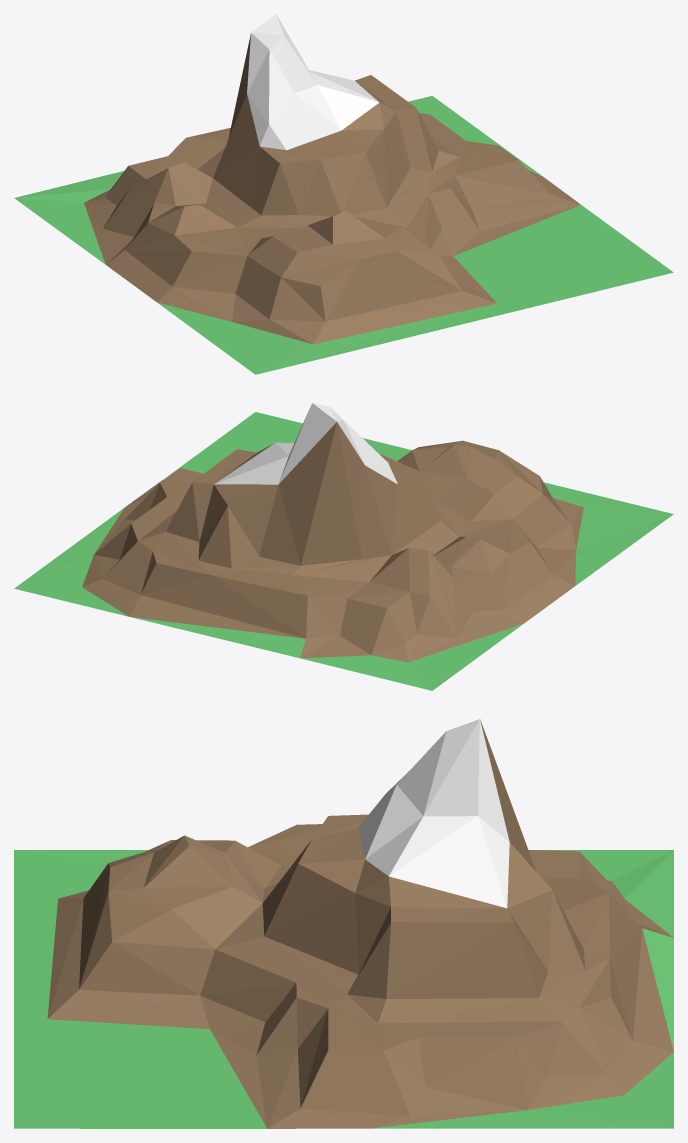
Rendered from Mountain.fbx.
3 views of the same model, one above another, from view 1: azimuth 30°, elevation 25°; view 2: azimuth 150°, elevation 25°; view 3: azimuth 270°, elevation 25° (orthographic). The views are drawn at different scales.
Parts seen in each view (by area): view 1: Mountain; view 2: Mountain; view 3: Mountain.
Part boxes in pixels (<box>): Mountain: <box>14,14,673,374</box>; Mountain: <box>14,403,673,690</box>; Mountain: <box>14,719,673,1128</box>.
Size of the model in its own units: 2000 by 867 by 2000.
